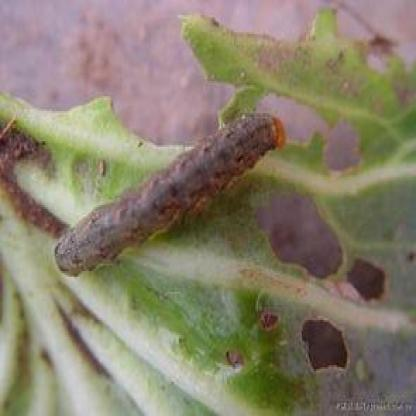armyworm: (41, 92, 311, 299)
